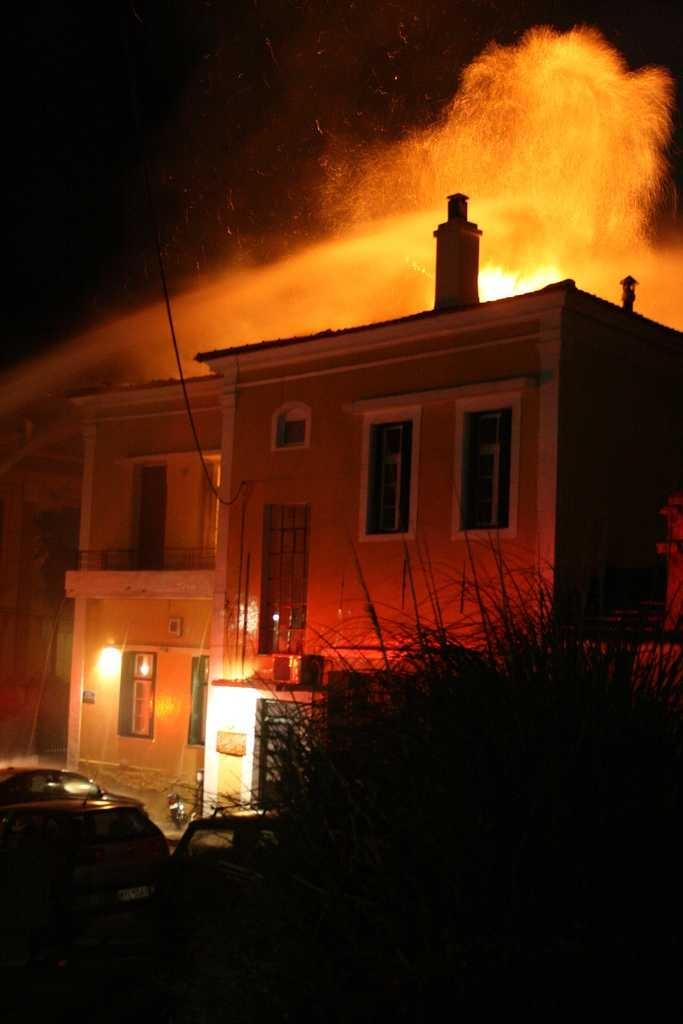fire: (312, 63, 667, 301)
